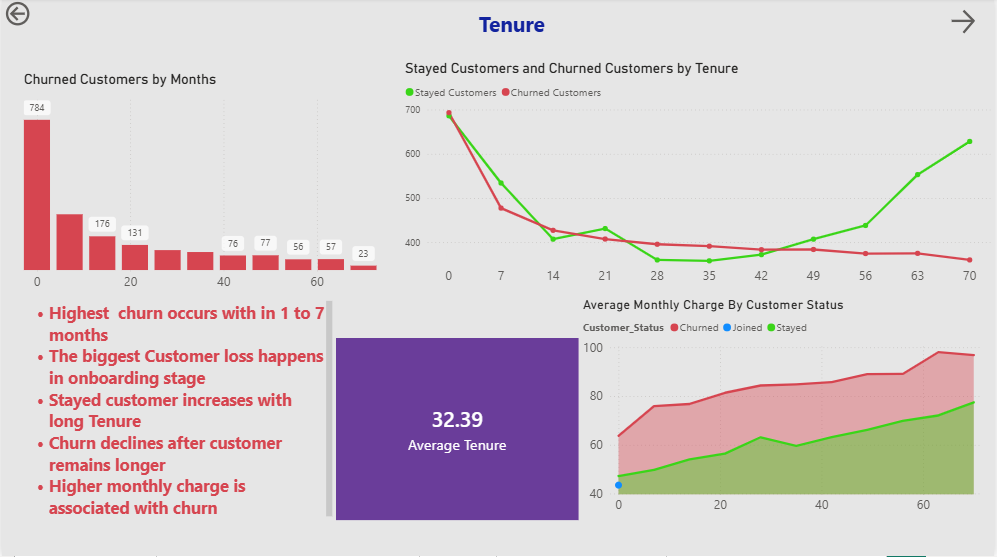

Layout of this report page (visuals, bound fields, positions):
{"tool":"powerbi","page":{"name":" Tenure","canvas":[1280,720],"ordinal":2},"visuals":[{"type":"lineStackedColumnComboChart","title":"Churned Customers by Months ","fields":{"Category":["telecom_db telecome_churn.Tenure_in_Months (bins)"],"Y":["telecom_db telecome_churn.Churned Customers"]},"box":[23.1,93.9,465.2,291.8],"z":0},{"type":"lineChart","title":" Stayed Customers and Churned Customers by Tenure","fields":{"Category":["telecom_db telecome_churn.Tenure_in_Months (bins)"],"Y":["telecom_db telecome_churn.Stayed Customers","telecom_db telecome_churn.Stayed Customers"],"Y2":["telecom_db telecome_churn.Churned Customers"]},"box":[514.3,79.5,765.7,299.1],"z":1000},{"type":"lineChart","title":" Average Monthly Charge By Customer Status","fields":{"Category":["telecom_db telecome_churn.Tenure_in_Months (bins)"],"Y":["Avg(telecom_db telecome_churn.Monthly_Charge)"],"Series":["telecom_db telecome_churn.Customer_Status"]},"box":[744,385.7,524.4,288.9],"z":2000},{"type":"cardVisual","fields":{"Data":["Avg(telecom_db telecome_churn.Tenure_in_Months)"]},"box":[430.5,439.2,313.5,235.5],"z":3000},{"type":"textbox","box":[595.2,10.1,118.5,47.7],"z":4000},{"type":"textbox","box":[22.7,385.5,408.2,289.1],"z":5000},{"type":"actionButton","box":[1219.3,10.1,49.1,40.5],"z":6000},{"type":"actionButton","box":[0,0,52,40.5],"z":7000}]}

Visuals, with their boxes in screenshot pixels (x1, y1, x2, y2), scaled from the page's 1280x720 canvas onto the 997x557 screenshot:
"Churned Customers by Months " lineStackedColumnComboChart: crop(18, 73, 380, 298)
" Stayed Customers and Churned Customers by Tenure" lineChart: crop(401, 62, 996, 293)
" Average Monthly Charge By Customer Status" lineChart: crop(580, 298, 988, 522)
cardVisual - Avg(telecom_db telecome_churn.Tenure_in_Months): crop(335, 340, 580, 522)
textbox: crop(464, 8, 556, 45)
textbox: crop(18, 298, 336, 522)
actionButton: crop(950, 8, 988, 39)
actionButton: crop(0, 0, 41, 31)
